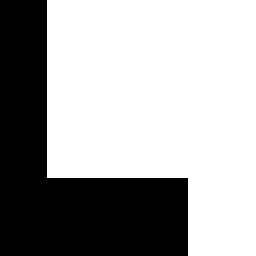rumex: (47, 0, 256, 177), (188, 176, 256, 256)
